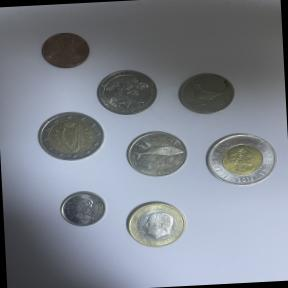coin: (195, 124, 287, 198), (116, 194, 200, 258), (32, 109, 109, 166), (117, 126, 194, 182), (32, 24, 101, 78), (93, 68, 163, 119), (54, 186, 115, 236)
